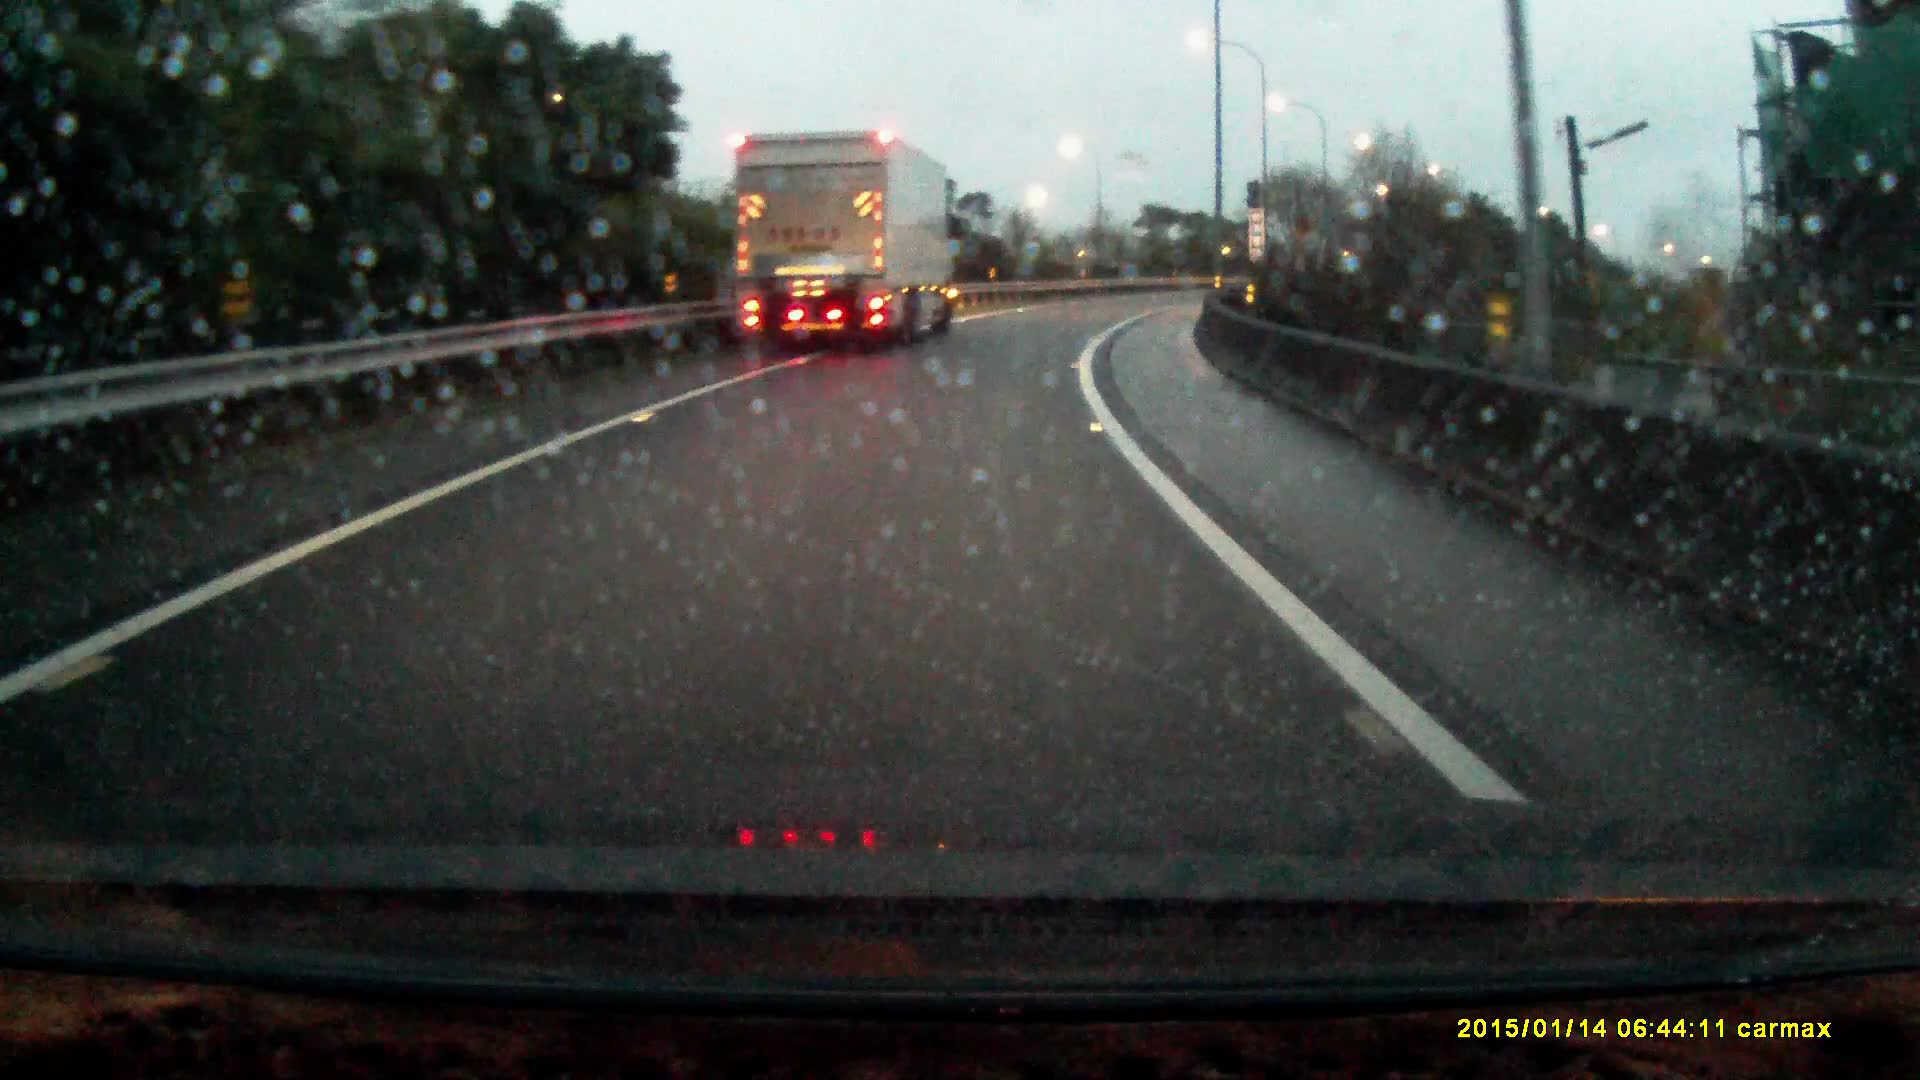vehicle: (735, 132, 957, 359)
